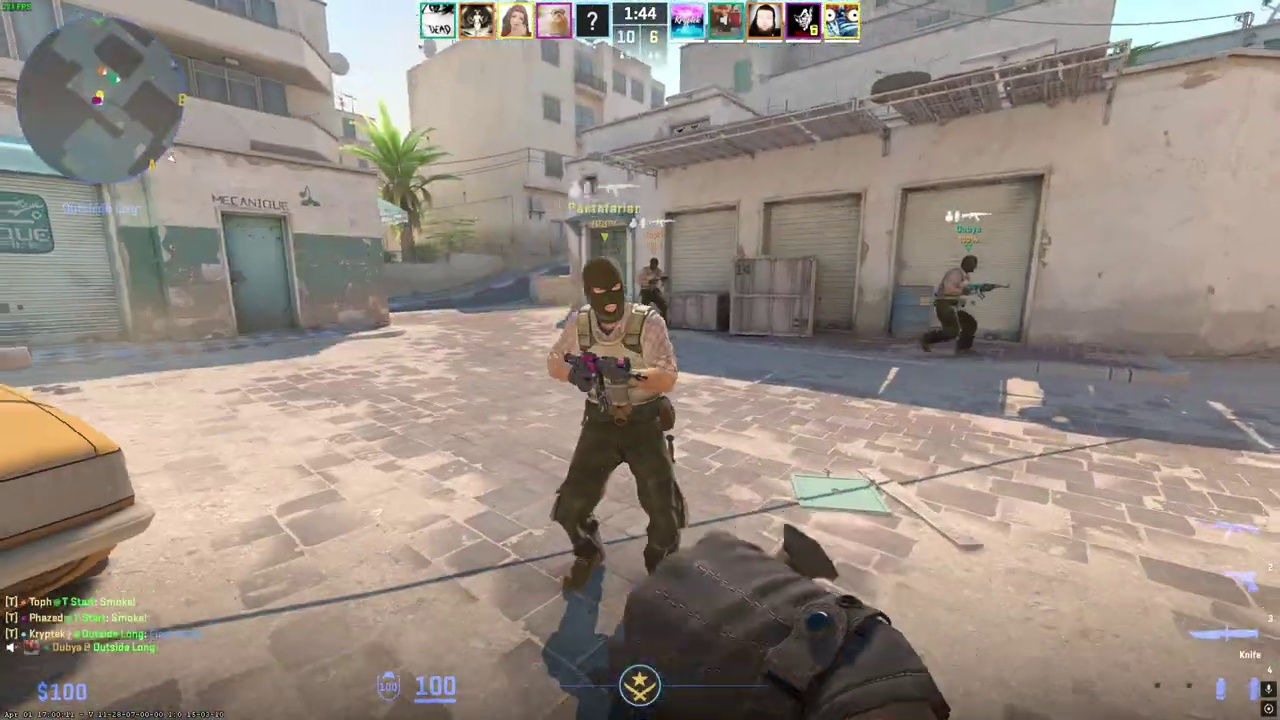Terrorist: (548, 255, 683, 591), (923, 255, 983, 357), (638, 257, 669, 312)
